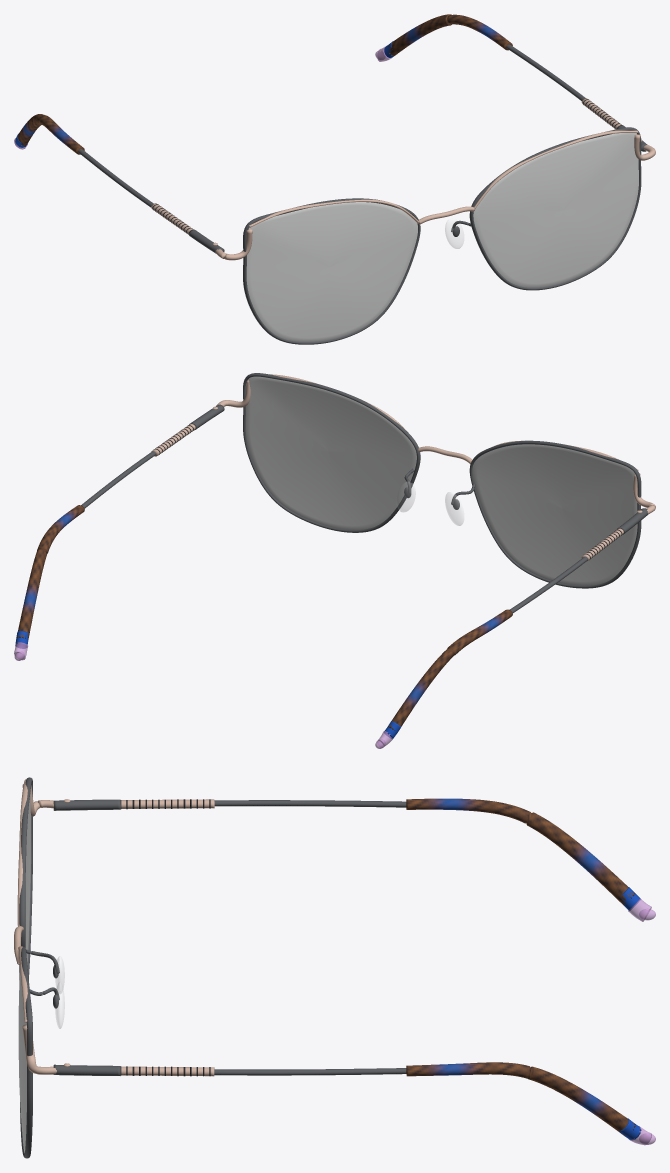
The model's file is bahamas-blue-nassau-3d.glb.
The picture shows the model from 3 angles, top to bottom: view 1: azimuth 30°, elevation 25°; view 2: azimuth 150°, elevation 25°; view 3: azimuth 270°, elevation 25°; orthographic projection. The views are drawn at different scales.
Parts seen in each view (by area): view 1: Transparent optical lens L, Transparent optical lens R, Graphite polished titanium, Champagne rose metal, Tortoiseshell lacquer; view 2: Transparent optical lens R, Transparent optical lens L, Graphite polished titanium, Tortoiseshell lacquer, Champagne rose metal, Transparent silicone; view 3: Graphite polished titanium, Tortoiseshell lacquer, Champagne rose metal, Transparent optical lens R, Transparent optical lens L, Translucent lilac pink tips, Hinge recess, Transparent silicone.
Boxes of the visible parts, box(x1,y1,x2,y2) form: Transparent optical lens L: box(246, 202, 417, 341); Transparent optical lens R: box(473, 133, 638, 287); Graphite polished titanium: box(78, 44, 647, 344); Champagne rose metal: box(151, 98, 655, 260); Tortoiseshell lacquer: box(17, 14, 512, 154); Transparent optical lens R: box(245, 376, 416, 529); Transparent optical lens L: box(472, 444, 637, 585); Graphite polished titanium: box(81, 373, 648, 613); Tortoiseshell lacquer: box(17, 505, 512, 730); Champagne rose metal: box(151, 374, 655, 561); Transparent silicone: box(397, 482, 463, 525); Graphite polished titanium: box(19, 777, 406, 1158); Tortoiseshell lacquer: box(406, 798, 635, 1136); Champagne rose metal: box(14, 779, 214, 1076); Transparent optical lens R: box(18, 967, 26, 1152); Transparent optical lens L: box(25, 792, 31, 965); Translucent lilac pink tips: box(628, 898, 655, 1145); Hinge recess: box(120, 799, 210, 1076); Transparent silicone: box(55, 956, 64, 1028).
Size of the model in its own units: 0.1444 by 0.045 by 0.1438.
